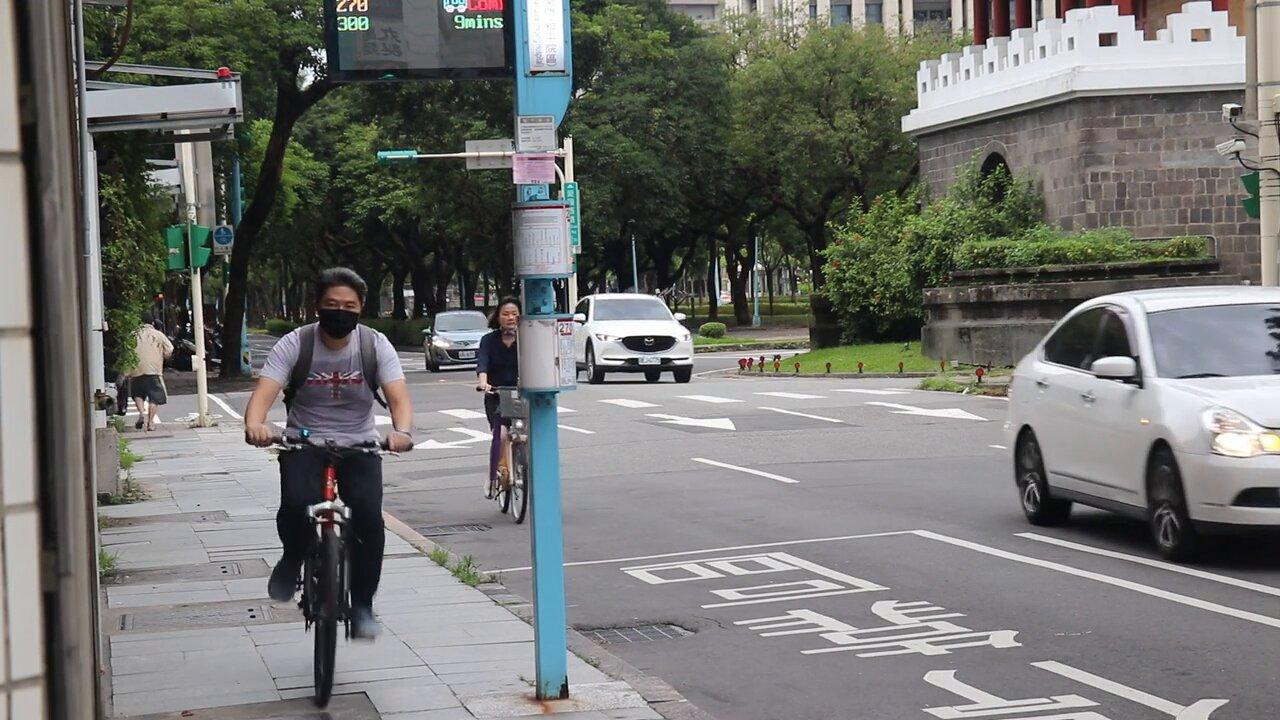bicyclist: (242, 264, 416, 711), (474, 294, 530, 525)
no-helmet: (314, 264, 368, 340), (492, 295, 522, 332)
